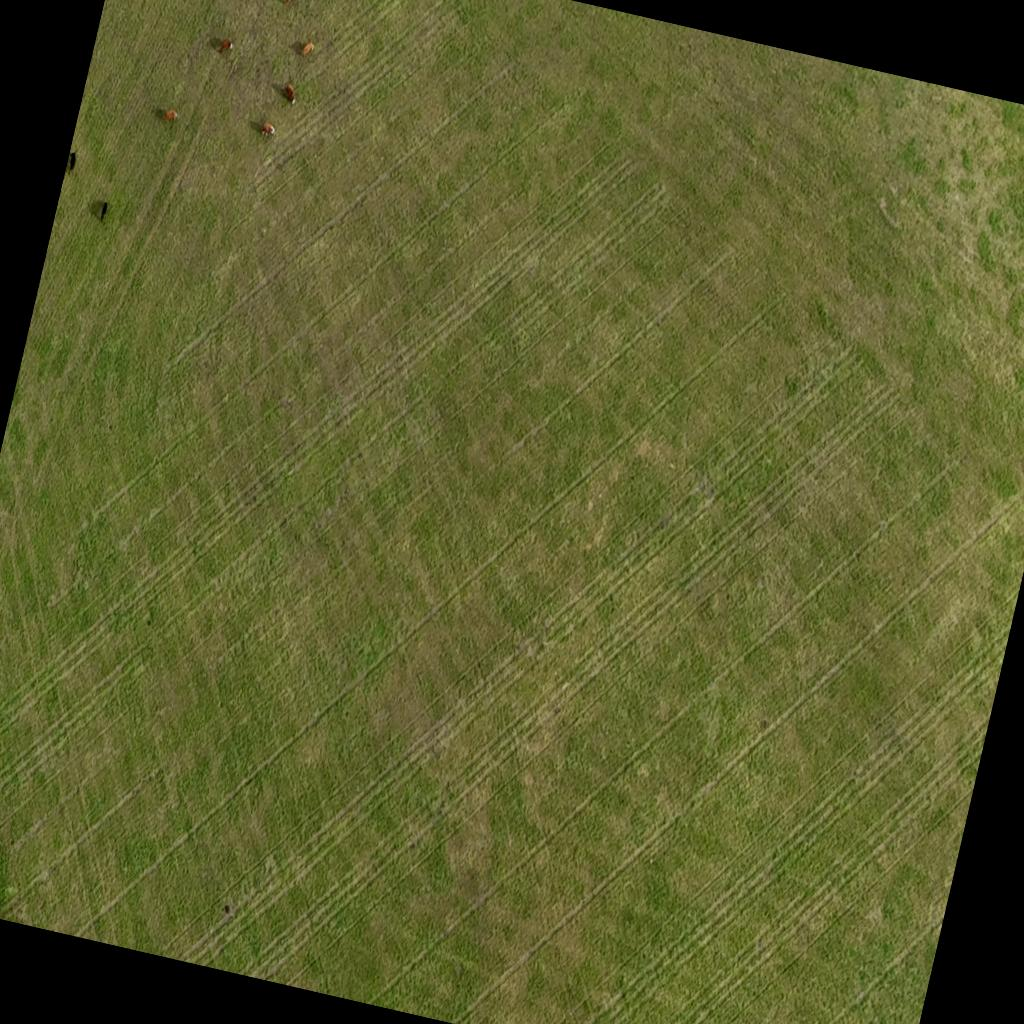cow: (281, 84, 298, 106), (162, 107, 180, 126), (260, 122, 277, 140), (220, 36, 236, 54), (66, 150, 78, 172), (301, 39, 315, 57), (99, 202, 109, 222), (285, 0, 300, 10)
